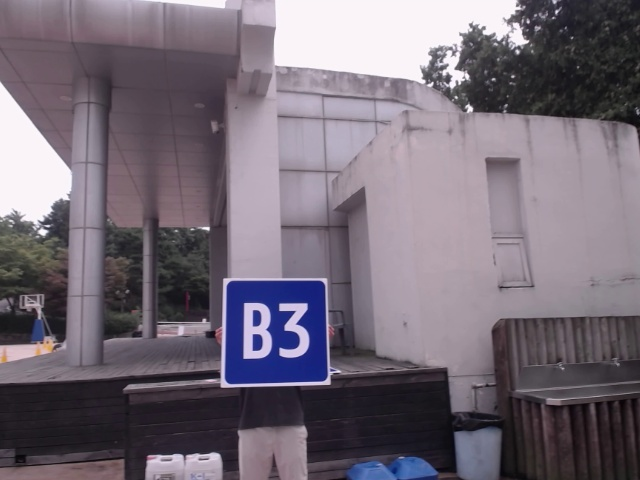delivery_b3: (224, 279, 330, 385)
